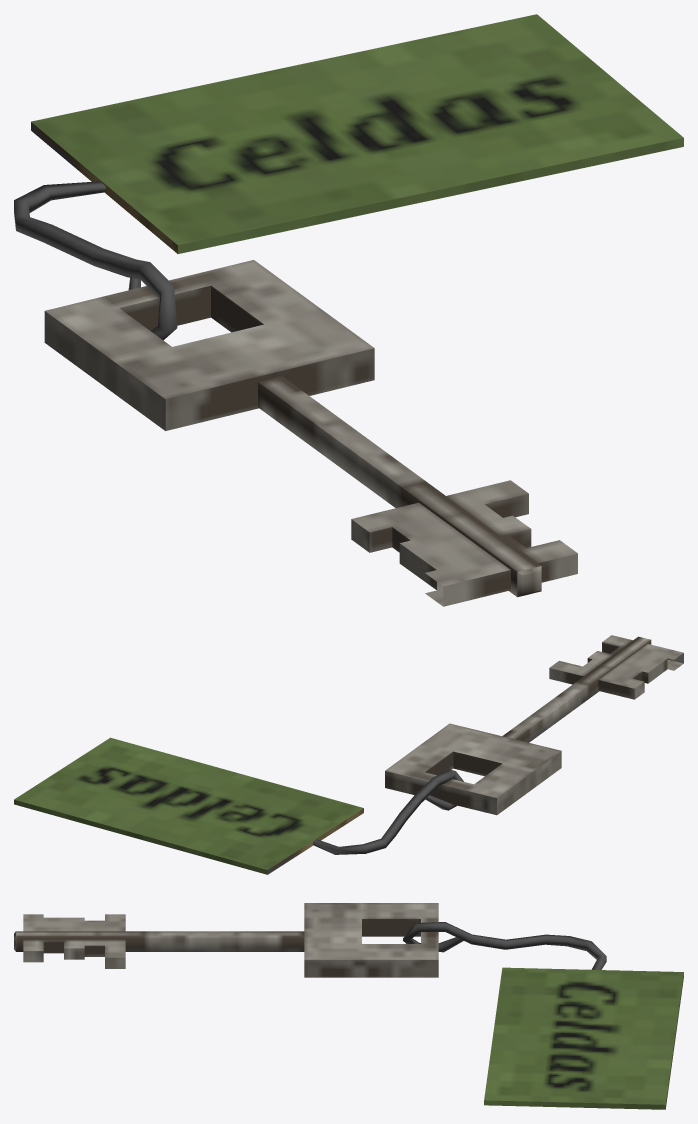
The model's file is key_02.fbx.
3 renders of one model, top to bottom at view 1: azimuth 30°, elevation 25°; view 2: azimuth 150°, elevation 25°; view 3: azimuth 270°, elevation 25°, orthographic. The views are drawn at different scales.
Visible parts, largest first — view 1: key_02; view 2: key_02; view 3: key_02.
Part boxes in pixels (x1=…): key_02: x1=14, y1=14, x2=683, y2=606; key_02: x1=14, y1=635, x2=683, y2=874; key_02: x1=14, y1=903, x2=683, y2=1109.
Size of the model in its own units: 19.22 by 1.52 by 28.81.
Materials: 1 (1 with a texture image).
